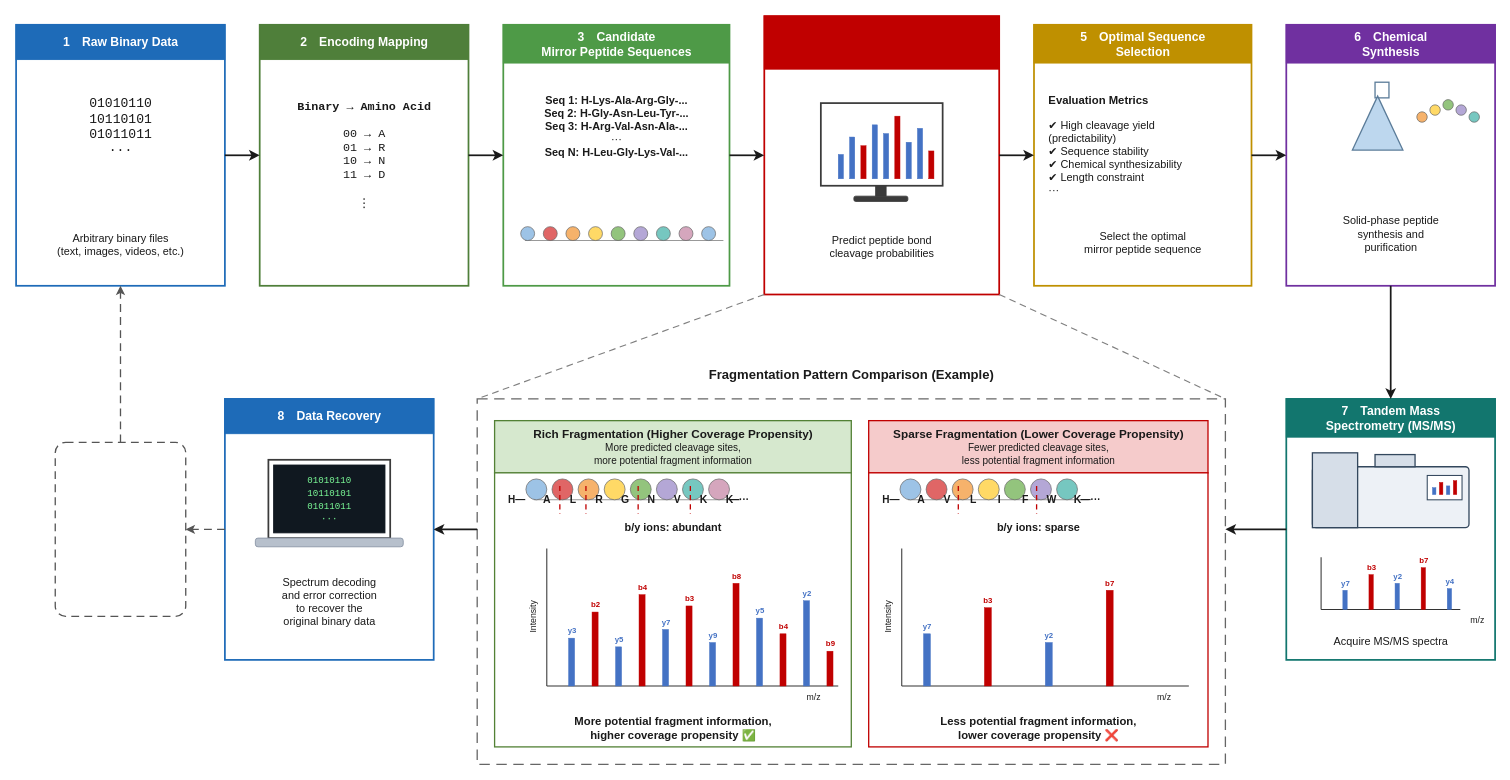
The diagram is 1510 pixels wide and 780 high, and some of its shapes have lost their labels. The centre of each missing label's shape, as x and y in pixels:
"4 Peptide Bond Cleavage Prediction (Critical Step)" goes at [881,42].
"Closed-loop design-and-readout workflow" goes at [120,529].
